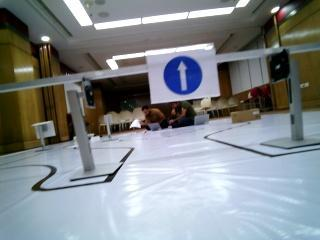straight: (143, 45, 221, 100)
